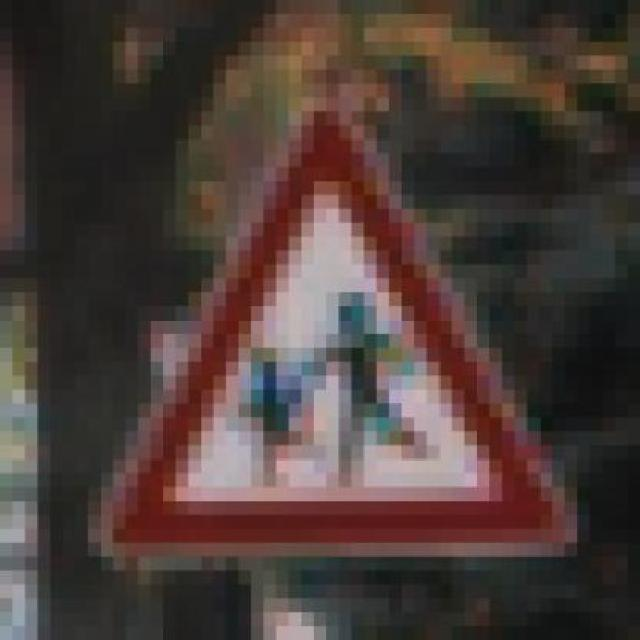Beware of children: (75, 83, 578, 571)
